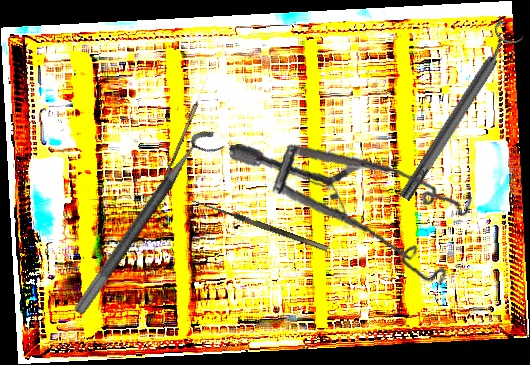Fixation Ring: (72, 123, 228, 327), (389, 18, 527, 207)
Hook Surgical: (188, 197, 329, 259)
Speculum: (229, 124, 479, 303)
Surgical Spoon: (163, 75, 210, 180)
